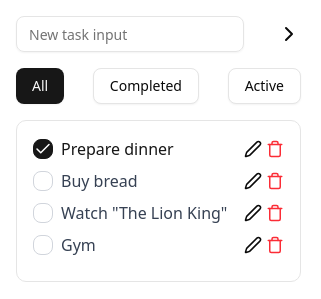
Scenario: MainTemplate › should render only active tasks when "Active" button is clicked
This screenshot has width=321, height=299.
Click the button "Active" at (264, 86), box [228,68,301,104]
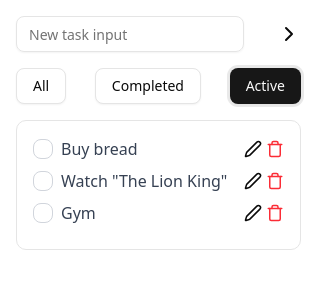
Check: the text "Buy bread" is shown, box [61,137,138,161]
Check: the text "Prepare dinner" is gone
